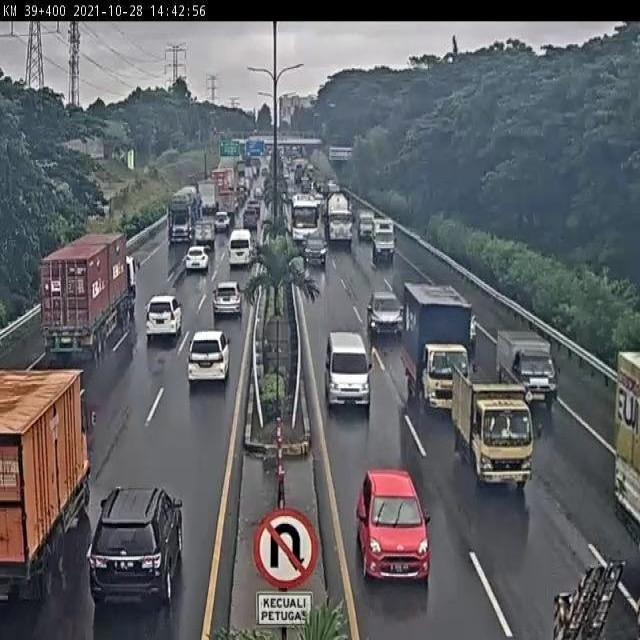big truck: (0, 370, 100, 614), (40, 235, 141, 364)
bus-s-: (324, 331, 374, 420)
car: (87, 485, 186, 616), (359, 468, 433, 588), (186, 329, 233, 387), (367, 290, 406, 342), (145, 295, 184, 344), (216, 274, 244, 310), (304, 233, 328, 272), (230, 228, 253, 264), (189, 241, 213, 272)
truck-m-: (452, 360, 535, 489), (403, 281, 475, 415)
truck-s-: (496, 330, 561, 414), (374, 220, 396, 264)
